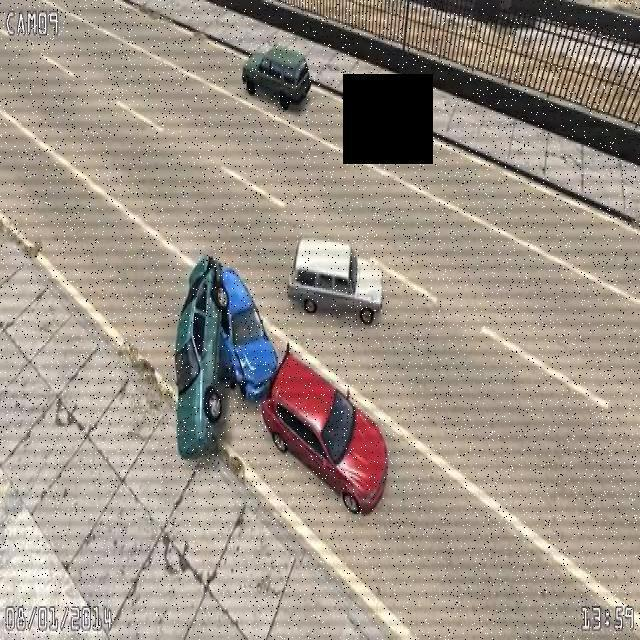accident: (217, 262, 391, 523), (174, 246, 279, 464)
